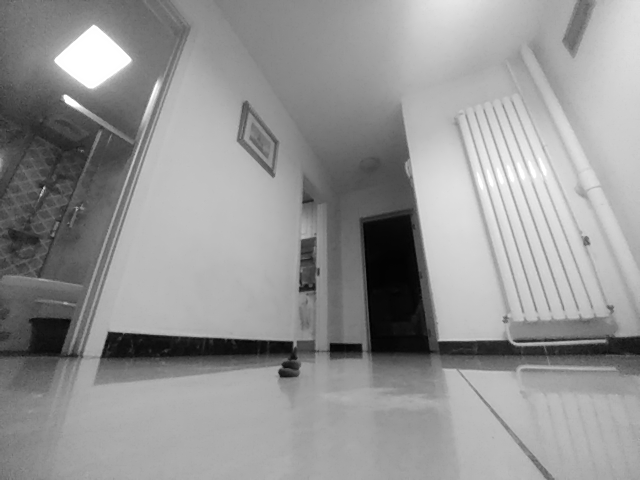pet feces: (278, 349, 302, 380)
